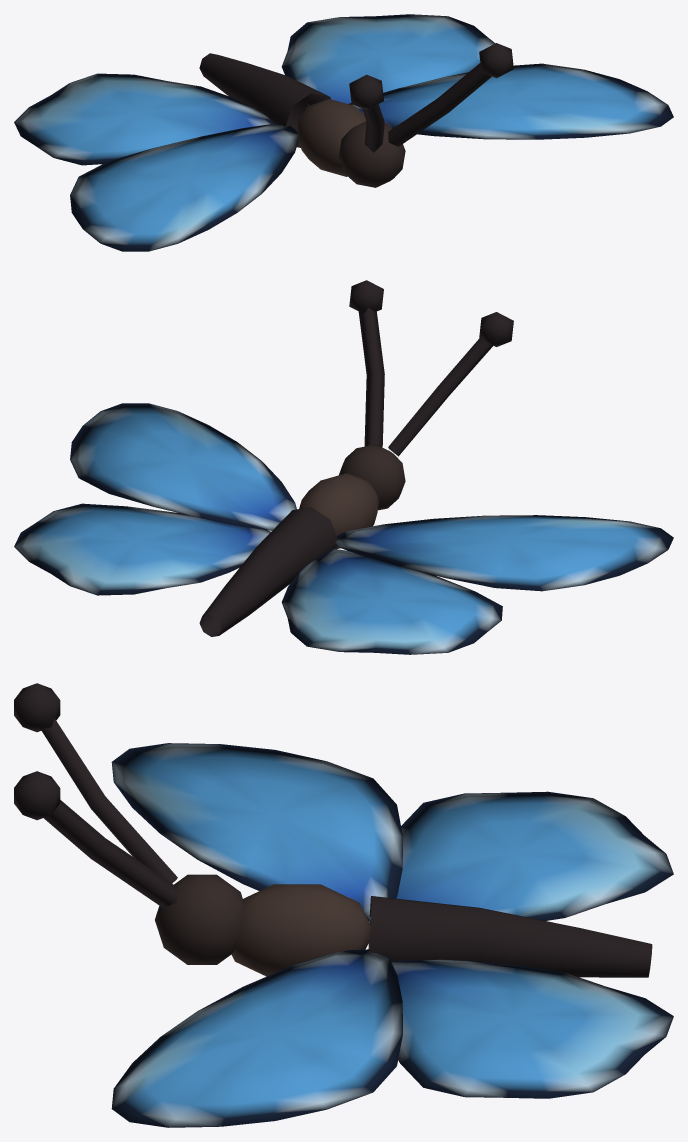
Rendered from critter_butterfly2.glb.
The picture shows the model from 3 angles, top to bottom: view 1: azimuth 30°, elevation 25°; view 2: azimuth 150°, elevation 25°; view 3: azimuth 270°, elevation 25°; orthographic projection. The views are drawn at different scales.
Visible parts, largest first — view 1: butterfly2_wing_l, butterfly2_wing_r, butterfly2_body; view 2: butterfly2_wing_l, butterfly2_wing_r, butterfly2_body; view 3: butterfly2_wing_r, butterfly2_wing_l, butterfly2_body.
Boxes of the visible parts, left/top/right/bottom form: butterfly2_wing_l: left=14, top=73, right=298, bottom=251; butterfly2_wing_r: left=281, top=14, right=673, bottom=139; butterfly2_body: left=199, top=43, right=513, bottom=187; butterfly2_wing_l: left=281, top=515, right=673, bottom=654; butterfly2_wing_r: left=14, top=403, right=296, bottom=595; butterfly2_body: left=199, top=280, right=513, bottom=636; butterfly2_wing_r: left=111, top=949, right=673, bottom=1127; butterfly2_wing_l: left=111, top=743, right=673, bottom=921; butterfly2_body: left=14, top=683, right=652, bottom=977.
Bounding box in the file's own units: 0.2012 × 0.061 × 0.1459.
